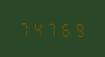four: (31, 19, 43, 36)
nine: (70, 20, 82, 37)
seven: (44, 19, 56, 37), (18, 19, 30, 36)
six: (57, 20, 69, 37)
